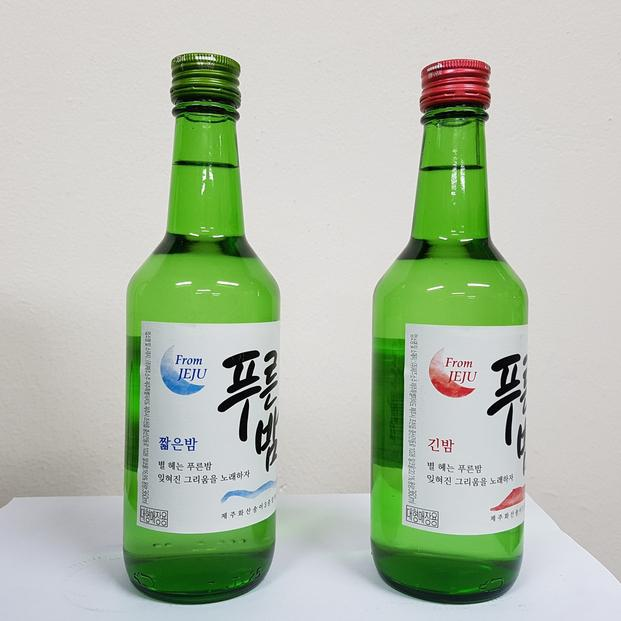soju: (114, 49, 284, 606), (368, 54, 538, 608)
